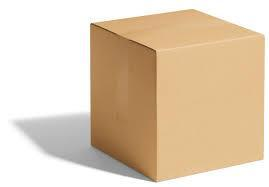box: (90, 9, 265, 182)
